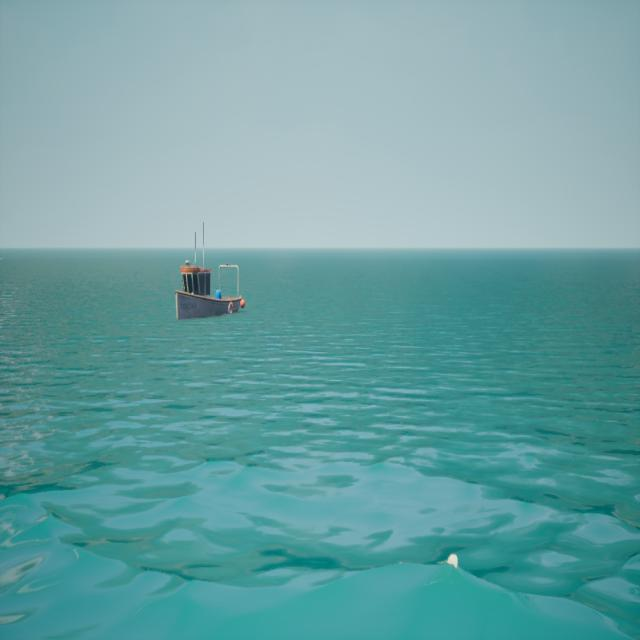ship: (178, 222, 246, 321)
